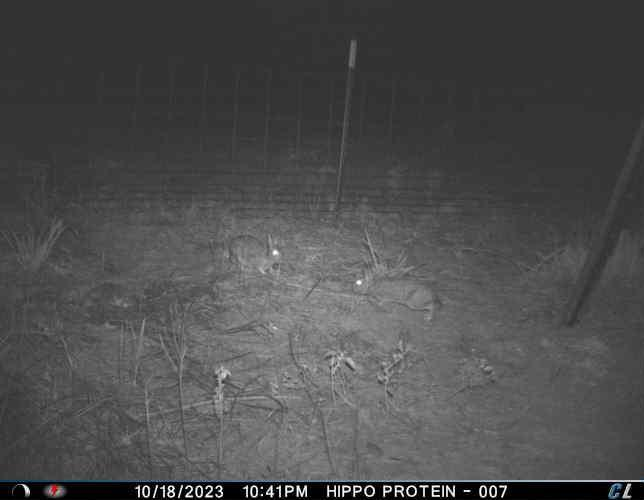Rabbit: (351, 260, 442, 325), (225, 230, 285, 276)
